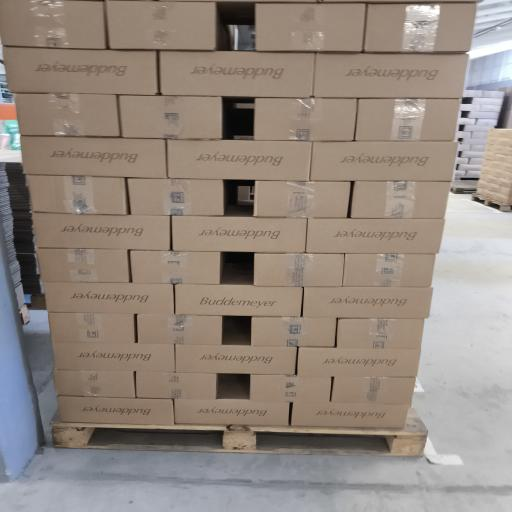pallet: (52, 408, 427, 456), (472, 194, 511, 211), (450, 180, 477, 193), (28, 294, 46, 310), (450, 186, 476, 194), (20, 305, 29, 326)
